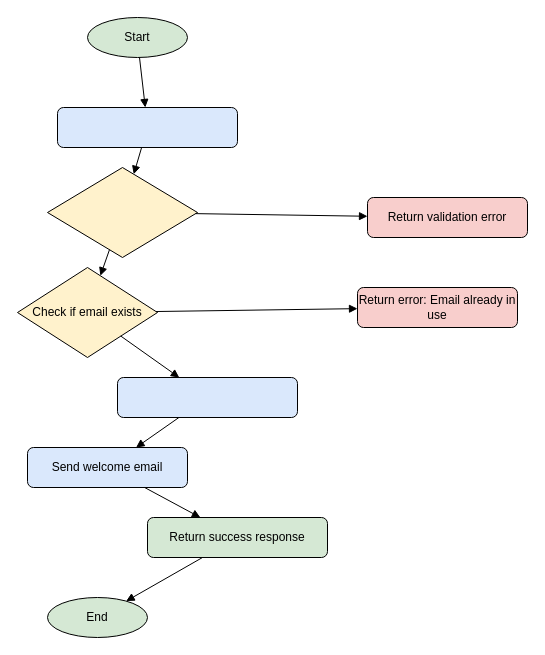
Some shapes in this 545 by 655 pixel diagram are drawn without their labels. The centre of each missing label's shape, as x and y in pixels:
Hash password & save user record: pixel 207 397
User submits registration form: pixel 147 127
Validate input data: pixel 122 212
